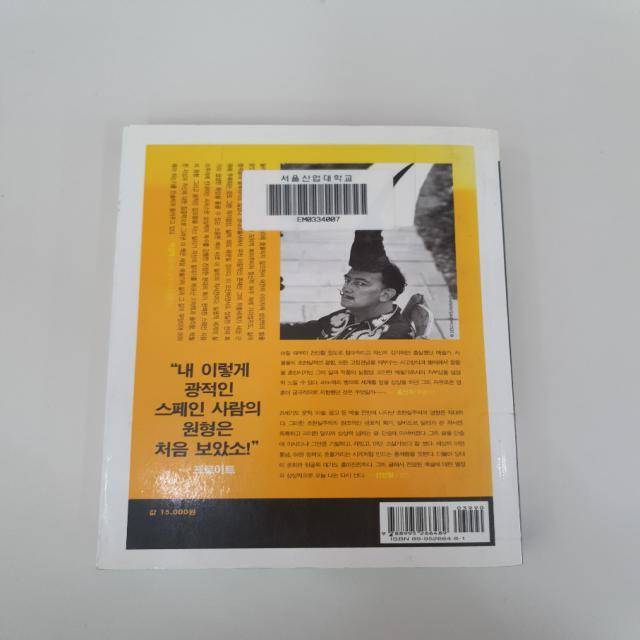Wornout: (228, 557, 363, 572), (93, 559, 171, 573)
